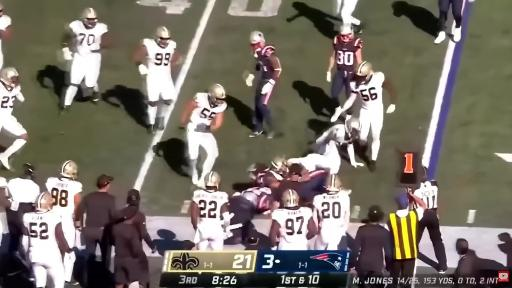Helmet: (0, 67, 19, 88), (247, 163, 269, 181), (208, 84, 225, 106), (355, 62, 373, 81), (35, 192, 53, 211), (271, 156, 289, 175), (281, 189, 299, 208), (345, 117, 360, 139), (60, 161, 78, 179), (154, 27, 170, 47), (81, 8, 97, 28), (250, 31, 265, 51), (325, 175, 342, 192), (205, 171, 220, 190), (345, 117, 360, 133), (243, 191, 257, 207), (340, 25, 353, 42), (0, 4, 3, 16)
Jersey: (23, 211, 61, 262), (272, 207, 312, 243), (46, 177, 82, 216), (313, 190, 349, 229), (69, 20, 107, 55), (192, 190, 228, 226), (143, 39, 176, 76), (351, 72, 384, 109), (190, 93, 226, 125), (333, 36, 362, 72), (256, 169, 286, 194), (316, 124, 352, 144), (255, 46, 275, 81), (0, 83, 21, 116), (240, 187, 271, 208), (289, 156, 315, 171), (0, 15, 11, 30)
Player: (331, 62, 396, 171), (61, 8, 109, 111), (134, 27, 178, 133), (181, 84, 226, 187), (23, 192, 70, 287), (288, 118, 363, 174), (246, 31, 281, 138), (46, 161, 82, 247), (191, 171, 230, 250), (269, 190, 317, 250), (227, 187, 277, 244), (327, 25, 362, 106), (0, 68, 28, 169), (313, 175, 350, 250), (334, 0, 362, 33), (0, 4, 11, 68), (248, 163, 270, 186), (270, 156, 289, 180)
